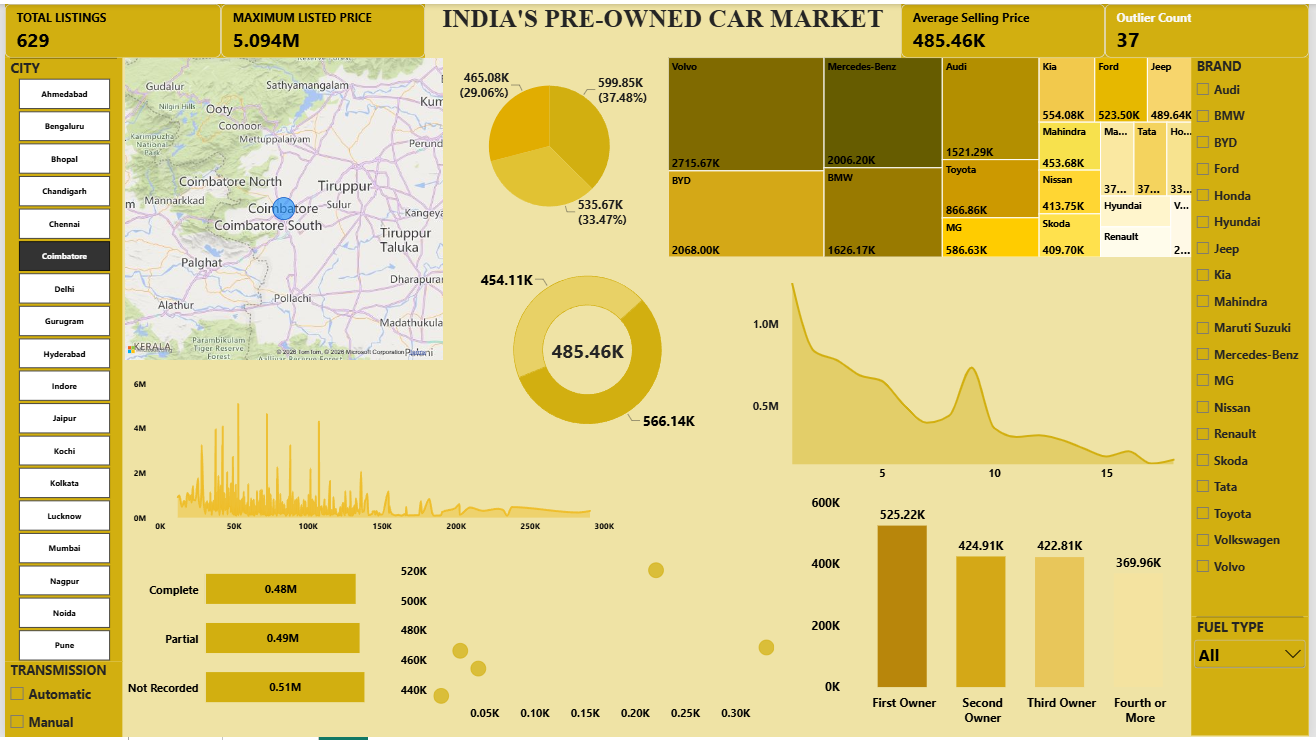

The dashboard page shown, as its layout file describes it:
{"tool":"powerbi","page":{"name":"Page 1","canvas":[1920,1080],"ordinal":0},"visuals":[{"type":"cardVisual","fields":{"Data":["Count(Sheet1.listing_id)"]},"box":[0,0,318.4,79.1],"z":0},{"type":"cardVisual","fields":{"Data":["Max(Sheet1.listed_price_inr)"]},"box":[318.4,0,300,79.1],"z":1000},{"type":"textbox","box":[0,946,65.6,134.9],"z":2000},{"type":"treemap","fields":{"Group":["Sheet1.brand"],"Values":["Avg(Sheet1.listed_price_inr)"]},"box":[960.7,64.4,809.8,323.9],"z":3000},{"type":"map","fields":{"Category":["Sheet1.city"],"Size":["Sum(Sheet1.listed_price_inr)"]},"box":[160.1,64.4,500.6,474.8],"z":4000},{"type":"lineChart","fields":{"Category":["Sheet1.vehicle_age_years"],"Y":["Avg(Sheet1.listed_price_inr)"]},"box":[1084.1,388.3,662.6,335],"z":6000},{"type":"stackedAreaChart","fields":{"Category":["Sheet1.km_driven"],"Y":["Avg(Sheet1.listed_price_inr)"]},"box":[173,535.6,739.9,261.4],"z":7000},{"type":"donutChart","fields":{"Category":["Sheet1.transmission"],"Y":["Avg(Sheet1.listed_price_inr)"]},"box":[618.4,347.9,478.5,323.9],"z":8000},{"type":"pieChart","fields":{"Category":["Sheet1.accident_history_clean"],"Y":["Avg(Sheet1.listed_price_inr)"]},"box":[618.4,71.8,366.3,276.1],"z":9000},{"type":"barChart","fields":{"Category":["Sheet1.service_history_clean"],"Y":["CountNonNull(Sheet1.listing_id)","Avg(Sheet1.listed_price_inr)"]},"box":[163.8,787.7,425.2,289],"z":10000},{"type":"lineClusteredColumnComboChart","fields":{"Category":["Sheet1.owner_count_category"],"Y":["Avg(Sheet1.listed_price_inr)"]},"box":[1170.6,706.8,601.8,373.6],"z":11000},{"type":"cardVisual","fields":{"Data":["Sheet1.Outlier Count"]},"box":[1619.6,0,300,79.1],"z":12000},{"type":"cardVisual","fields":{"Data":["Sheet1.Average Selling Price"]},"box":[1319.6,0,300,79.1],"z":13000},{"type":"slicer","fields":{"Values":["Sheet1.brand"]},"box":[1746.6,79.1,173,822.7],"z":14000},{"type":"slicer","fields":{"Values":["Sheet1.city"]},"box":[0,79.1,173,889],"z":15000},{"type":"slicer","fields":{"Values":["Sheet1.fuel_type"]},"box":[1746.6,901.8,173,174.8],"z":16000},{"type":"slicer","fields":{"Values":["Sheet1.transmission"]},"box":[0,968.1,173,112.3],"z":17000},{"type":"textbox","box":[618.4,0,701.2,79.1],"z":18000},{"type":"scatterChart","fields":{"Category":["Sheet1.fuel_type1"],"X":["Sheet1.listing_id1"],"Y":["Avg(Sheet1.listed_price_inr)"]},"box":[566.9,796.9,603.7,279.8],"z":18002}]}

Visuals, with their boxes in screenshot pixels (x1, y1, x2, y2), scaled from the page's 1920x1080 canvas onto the 1316x740 screenshot:
cardVisual - Count(Sheet1.listing_id): x1=0 y1=0 x2=218 y2=54
cardVisual - Max(Sheet1.listed_price_inr): x1=218 y1=0 x2=424 y2=54
textbox: x1=0 y1=648 x2=45 y2=739
treemap - Sheet1.brand x Avg(Sheet1.listed_price_inr): x1=658 y1=44 x2=1214 y2=266
map - Sheet1.city x Sum(Sheet1.listed_price_inr): x1=110 y1=44 x2=453 y2=369
lineChart - Sheet1.vehicle_age_years x Avg(Sheet1.listed_price_inr): x1=743 y1=266 x2=1197 y2=496
stackedAreaChart - Sheet1.km_driven x Avg(Sheet1.listed_price_inr): x1=119 y1=367 x2=626 y2=546
donutChart - Sheet1.transmission x Avg(Sheet1.listed_price_inr): x1=424 y1=238 x2=752 y2=460
pieChart - Sheet1.accident_history_clean x Avg(Sheet1.listed_price_inr): x1=424 y1=49 x2=675 y2=238
barChart - Sheet1.service_history_clean x CountNonNull(Sheet1.listing_id): x1=112 y1=540 x2=404 y2=738
lineClusteredColumnComboChart - Sheet1.owner_count_category x Avg(Sheet1.listed_price_inr): x1=802 y1=484 x2=1215 y2=739
cardVisual - Sheet1.Outlier Count: x1=1110 y1=0 x2=1315 y2=54
cardVisual - Sheet1.Average Selling Price: x1=904 y1=0 x2=1110 y2=54
slicer - Sheet1.brand: x1=1197 y1=54 x2=1315 y2=618
slicer - Sheet1.city: x1=0 y1=54 x2=119 y2=663
slicer - Sheet1.fuel_type: x1=1197 y1=618 x2=1315 y2=738
slicer - Sheet1.transmission: x1=0 y1=663 x2=119 y2=739
textbox: x1=424 y1=0 x2=904 y2=54
scatterChart - Sheet1.fuel_type1 x Sheet1.listing_id1: x1=389 y1=546 x2=802 y2=738
